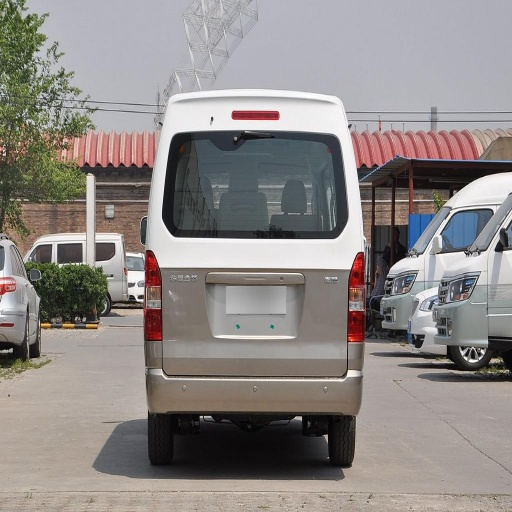back_bumper: (144, 345, 361, 415)
trunk: (149, 239, 357, 377)
